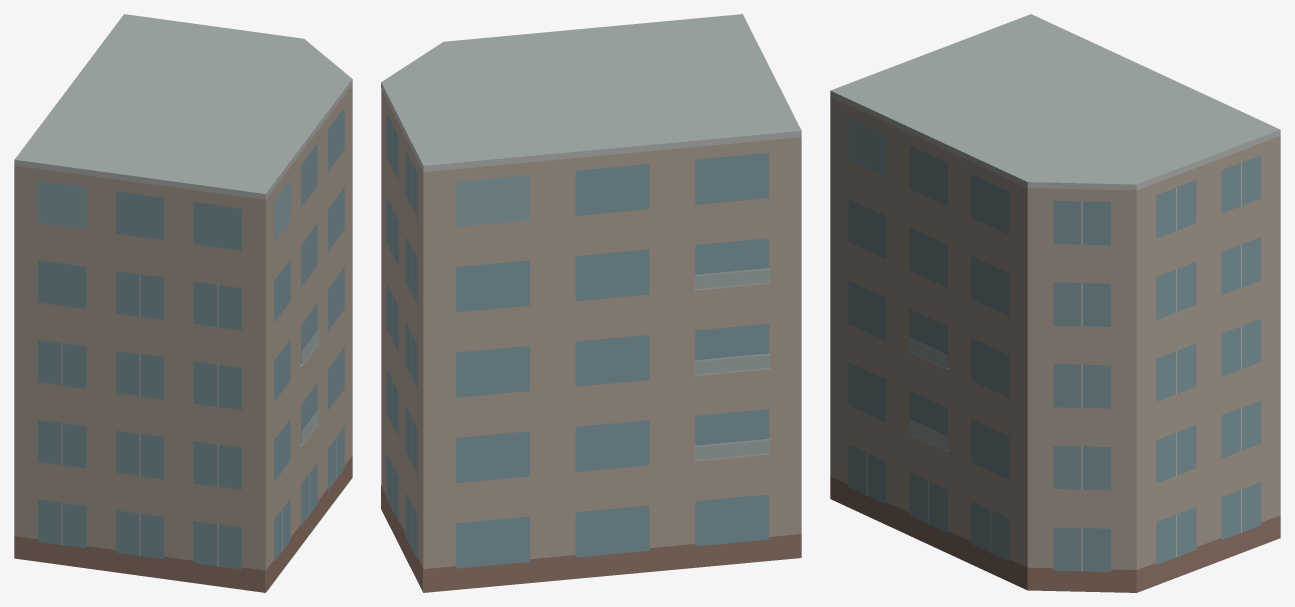
Rendered from survey-upis-32864638.glb.
3 renders of one model, left to right at view 1: azimuth 30°, elevation 25°; view 2: azimuth 150°, elevation 25°; view 3: azimuth 270°, elevation 25°, orthographic. The views are drawn at different scales.
Visible parts, largest first — view 1: survey-upis-32864638.tmp; view 2: survey-upis-32864638.tmp; view 3: survey-upis-32864638.tmp.
Boxes of the visible parts, x1,y1,x2,y2 form: survey-upis-32864638.tmp: (14,14,352,592); survey-upis-32864638.tmp: (381,14,801,592); survey-upis-32864638.tmp: (830,14,1280,592).
Size of the model in its own units: 14.97 by 16.7 by 16.7.
